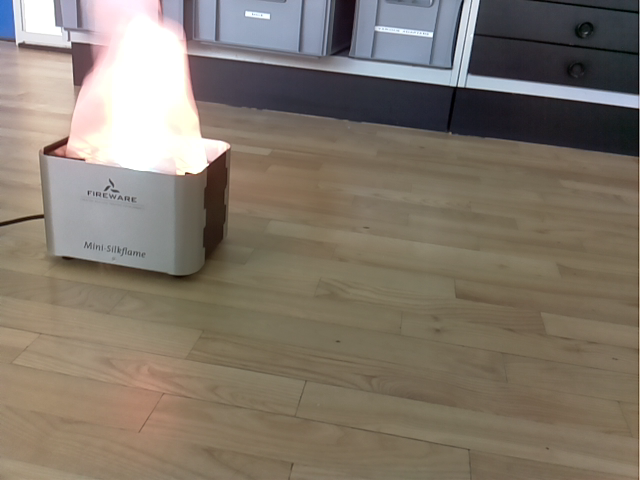fire: (63, 1, 208, 174)
